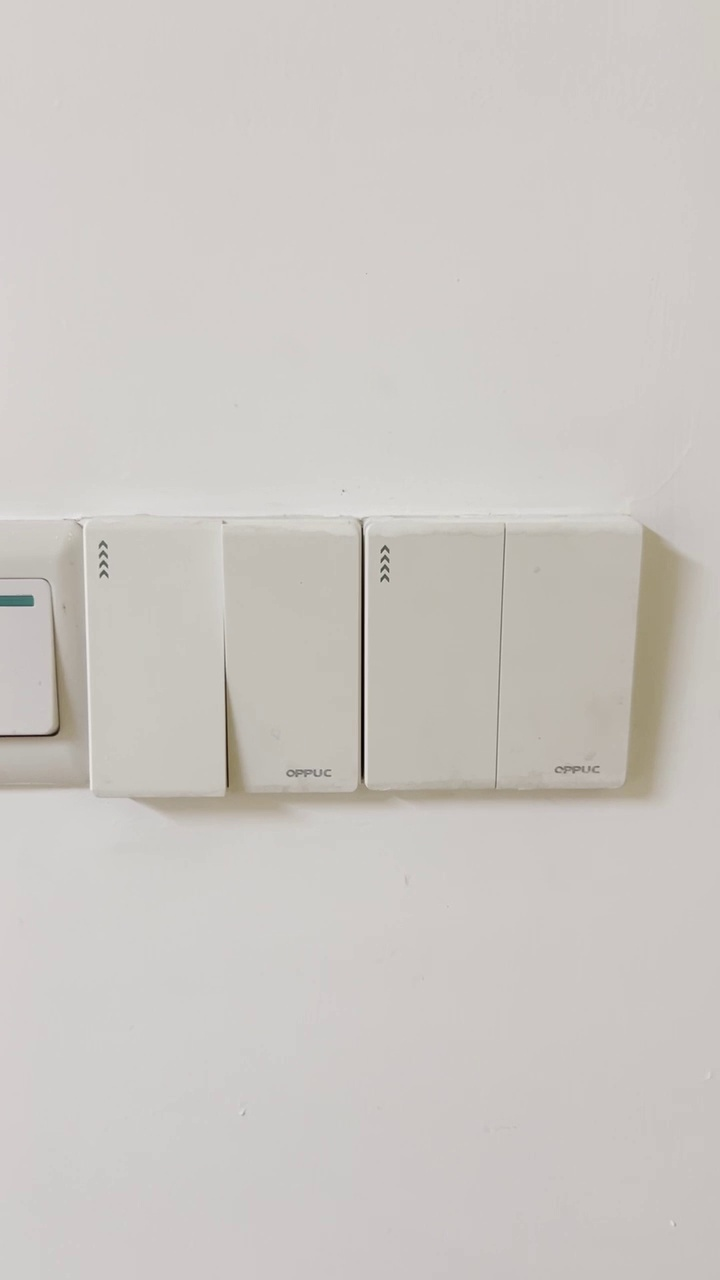button1: (88, 528, 220, 790), (504, 527, 633, 787), (230, 525, 359, 784), (371, 525, 493, 784)
